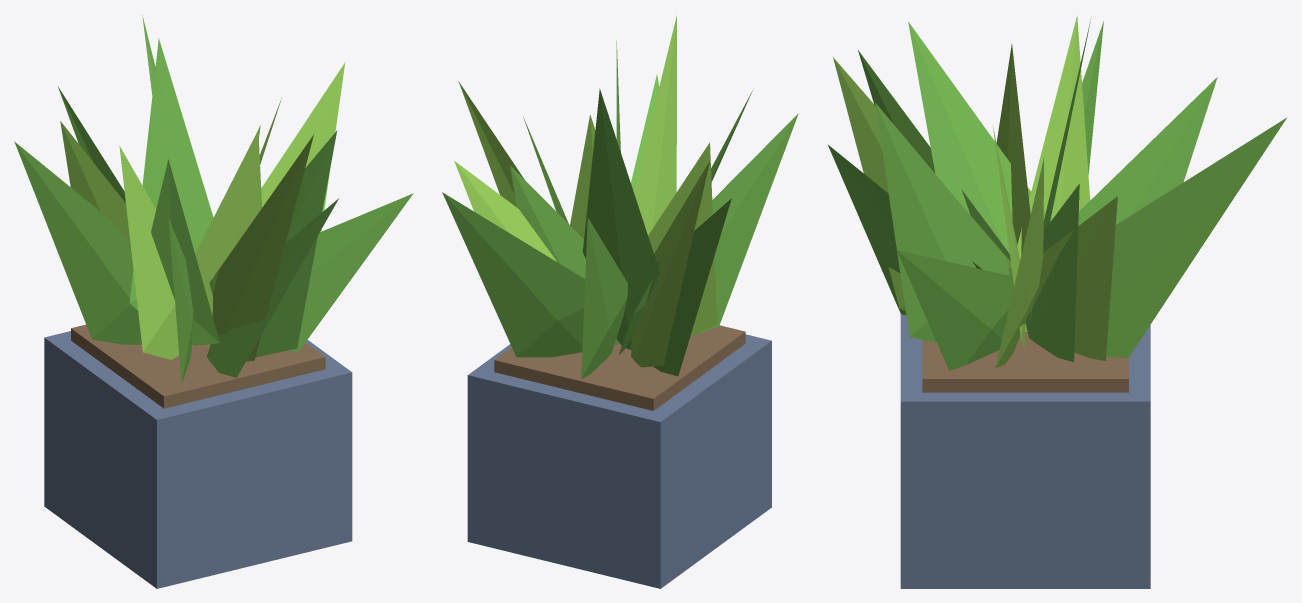
The model's file is 11_plant_large.glb.
3 renders of one model, left to right at view 1: azimuth 30°, elevation 25°; view 2: azimuth 150°, elevation 25°; view 3: azimuth 270°, elevation 25°, orthographic. The views are drawn at different scales.
Visible parts, largest first — view 1: part_1, part_10, part_2, part_15, part_11, part_12, part_17, part_16, part_3, part_8, part_14, part_18 (+3 smaller); view 2: part_1, part_5, part_2, part_11, part_13, part_9, part_15, part_7, part_10, part_4, part_12, part_6 (+5 smaller); view 3: part_1, part_5, part_16, part_8, part_17, part_2, part_7, part_6, part_9, part_4, part_14, part_18 (+6 smaller).
Part boxes in pixels (x1,y1,x2,y2): part_1: (44, 331, 352, 588); part_10: (14, 141, 141, 344); part_2: (71, 324, 325, 408); part_15: (212, 134, 313, 361); part_11: (129, 38, 213, 310); part_12: (119, 146, 179, 359); part_17: (288, 193, 413, 351); part_16: (209, 130, 337, 357); part_3: (195, 130, 262, 315); part_8: (151, 159, 219, 345); part_14: (207, 198, 338, 377); part_18: (261, 62, 345, 231); part_1: (467, 334, 771, 588); part_5: (442, 192, 585, 357); part_2: (494, 325, 745, 410); part_11: (582, 88, 659, 349); part_13: (697, 113, 798, 333); part_9: (631, 161, 709, 367); part_15: (633, 15, 676, 235); part_7: (581, 217, 627, 379); part_10: (653, 198, 731, 376); part_4: (510, 166, 616, 340); part_12: (648, 142, 717, 336); part_6: (454, 160, 556, 261); part_1: (900, 314, 1150, 588); part_5: (1106, 117, 1286, 357); part_16: (875, 103, 1010, 342); part_8: (908, 21, 1051, 331); part_17: (896, 250, 1013, 370); part_2: (922, 332, 1128, 392); part_7: (1078, 77, 1217, 225); part_6: (1029, 196, 1117, 360); part_9: (1017, 15, 1090, 260); part_4: (1025, 184, 1079, 362); part_14: (827, 144, 982, 315); part_18: (995, 158, 1043, 368).
Size of the model in its own units: 1.35 by 1.97 by 1.59.
